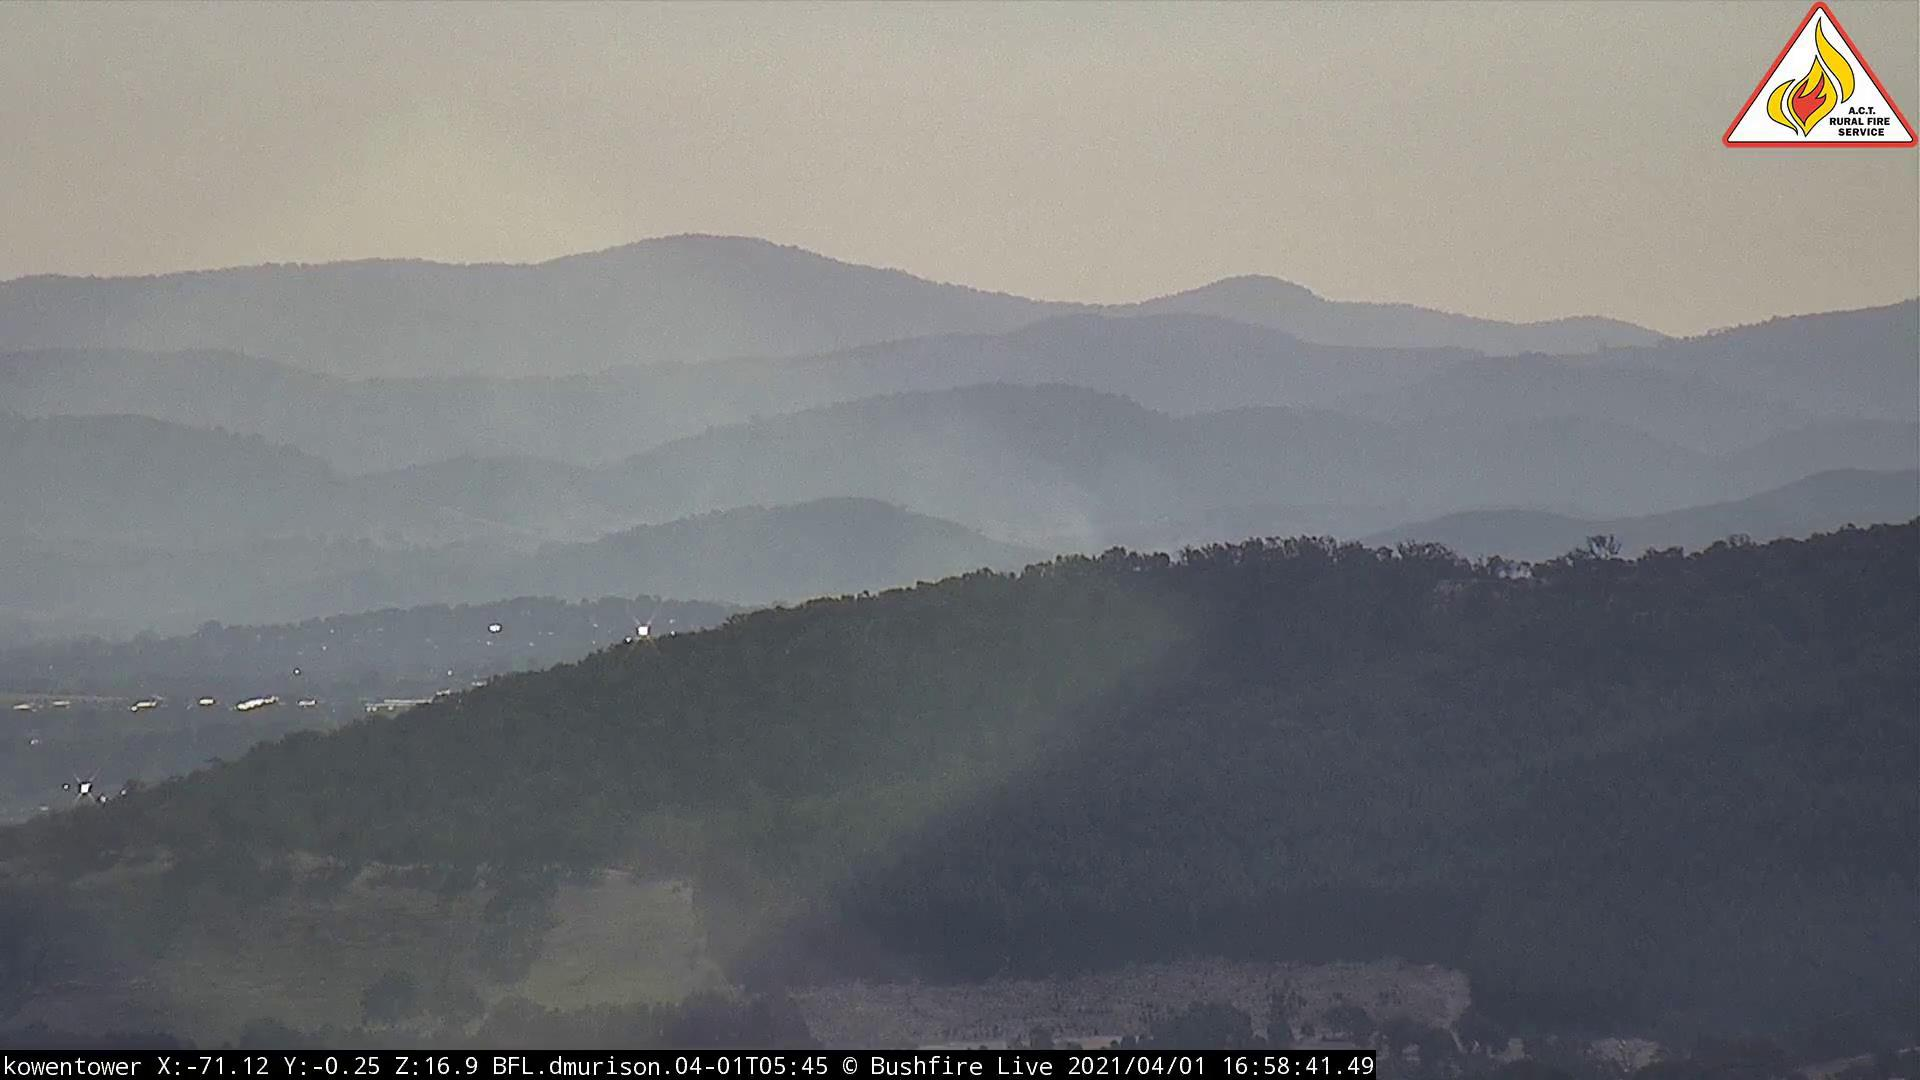Smoke: (870, 419, 1188, 607)
